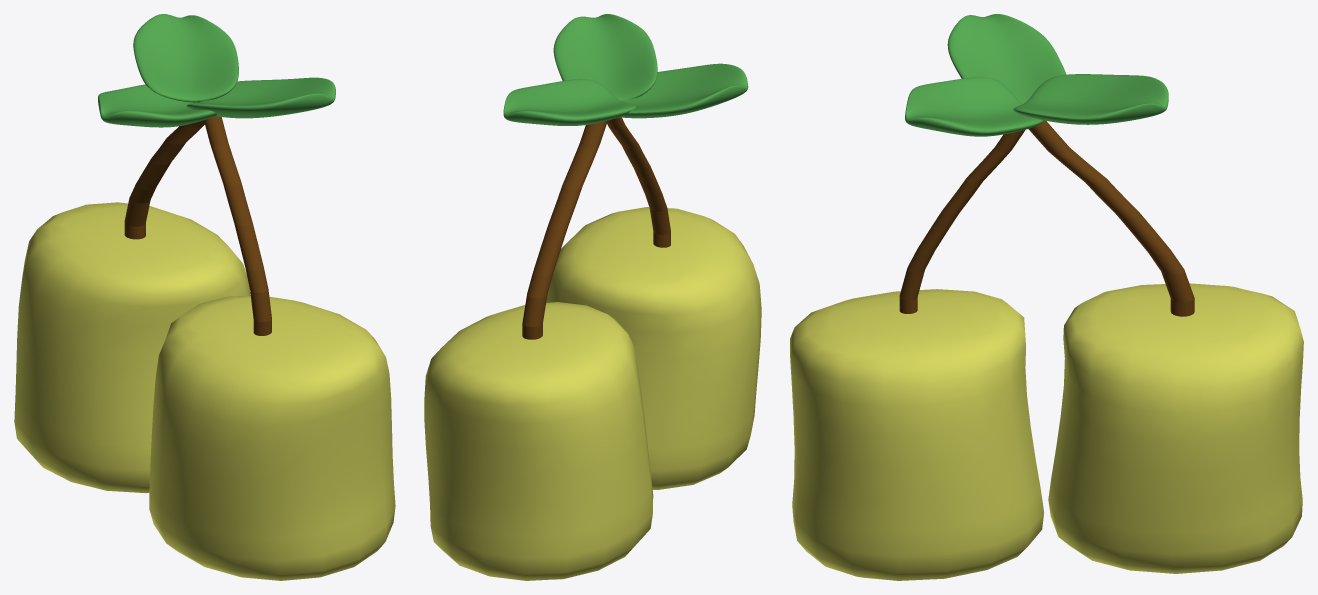
The model's file is Berry_Cube.fbx.
3 views of the same model, side by side, from view 1: azimuth 30°, elevation 25°; view 2: azimuth 150°, elevation 25°; view 3: azimuth 270°, elevation 25° (orthographic). The views are drawn at different scales.
Visible parts, largest first — view 1: Leave.003; view 2: Leave.003; view 3: Leave.003.
Boxes of the visible parts, bbox=[...] form: Leave.003: bbox=[14, 14, 395, 580]; Leave.003: bbox=[424, 14, 761, 580]; Leave.003: bbox=[790, 14, 1303, 580].
Bounding box in the file's own units: 159 × 285 × 282.
